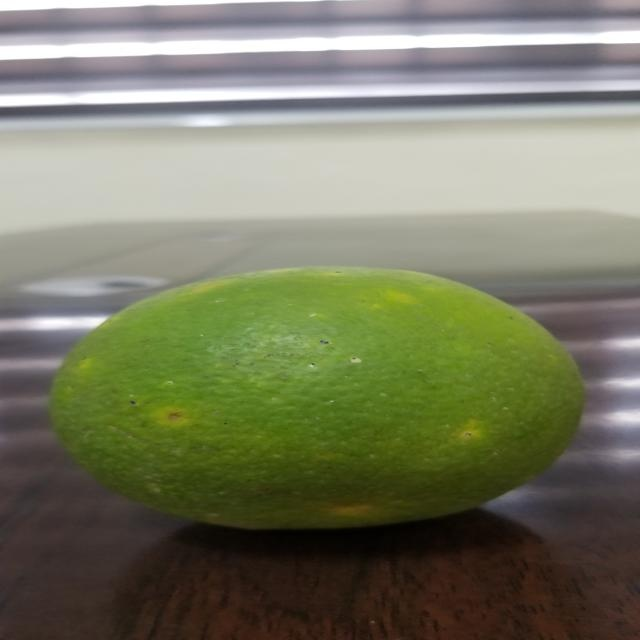agrume: (52, 261, 614, 523)
